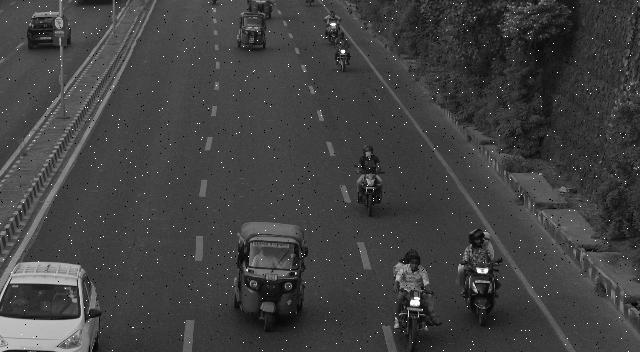With Helmet: (466, 230, 484, 248), (360, 144, 374, 160), (338, 29, 344, 39)
Without Helmet: (404, 253, 424, 274), (482, 232, 491, 246), (330, 12, 336, 18)
